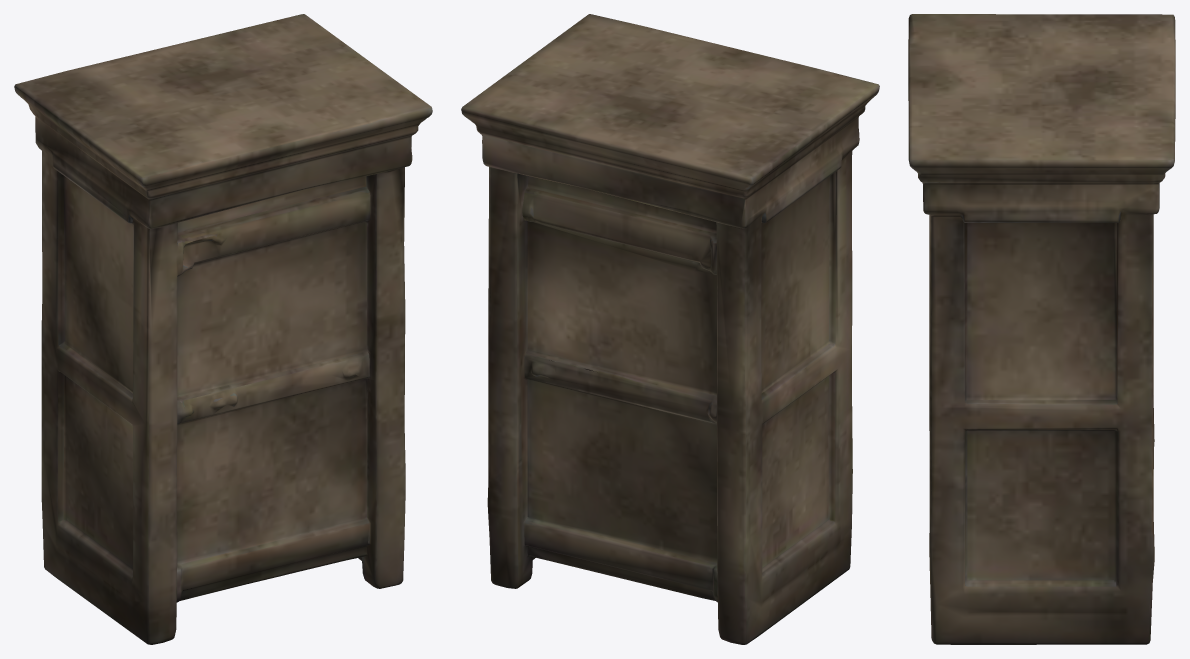
Rendered from rustic-wood-cell-door-v002.glb.
The picture shows the model from 3 angles, left to right: view 1: azimuth 30°, elevation 25°; view 2: azimuth 150°, elevation 25°; view 3: azimuth 270°, elevation 25°; orthographic projection. The views are drawn at different scales.
Parts seen in each view (by area): view 1: rustic-wood-cell-door; view 2: rustic-wood-cell-door; view 3: rustic-wood-cell-door.
Part boxes in pixels (<box>): rustic-wood-cell-door: <box>14,14,432,644</box>; rustic-wood-cell-door: <box>461,14,879,644</box>; rustic-wood-cell-door: <box>908,14,1175,644</box>.
Bounding box in the file's own units: 1.32 × 2.09 × 1.02.
Materials: 1 (1 with a texture image).
